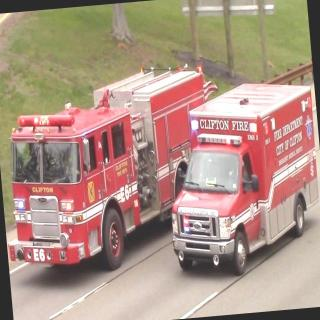Fire_truck: (0, 58, 232, 280), (158, 76, 320, 280)
